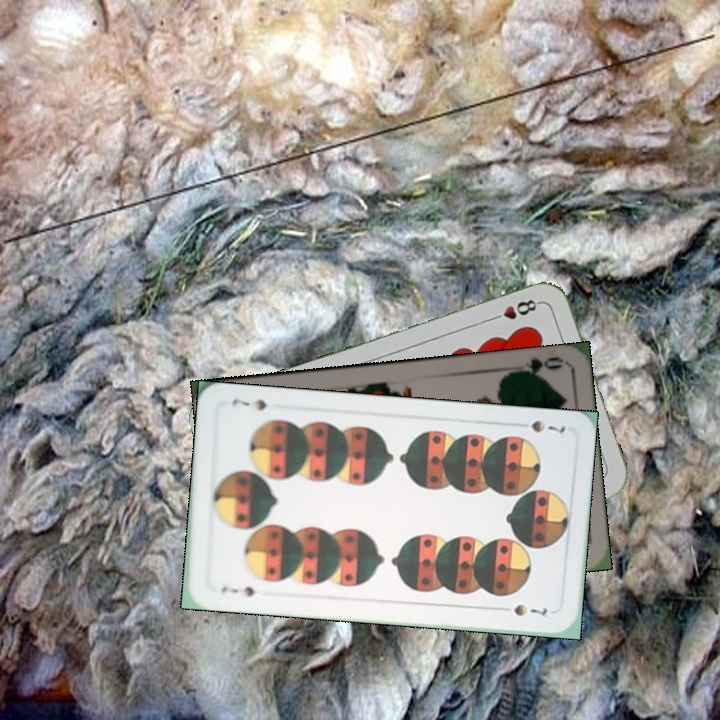GO: (506, 352, 565, 381)
H8: (486, 295, 543, 324)
S7: (511, 416, 568, 436), (217, 582, 257, 599)
